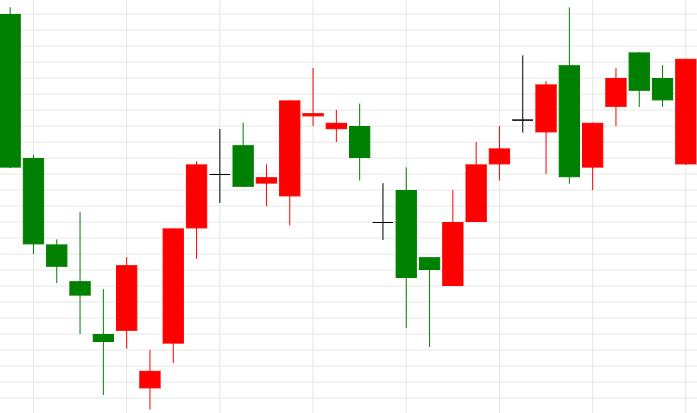bearish_engulfing_fall: (419, 6, 579, 347)
three_white_soldiers_rise: (302, 68, 511, 347)
